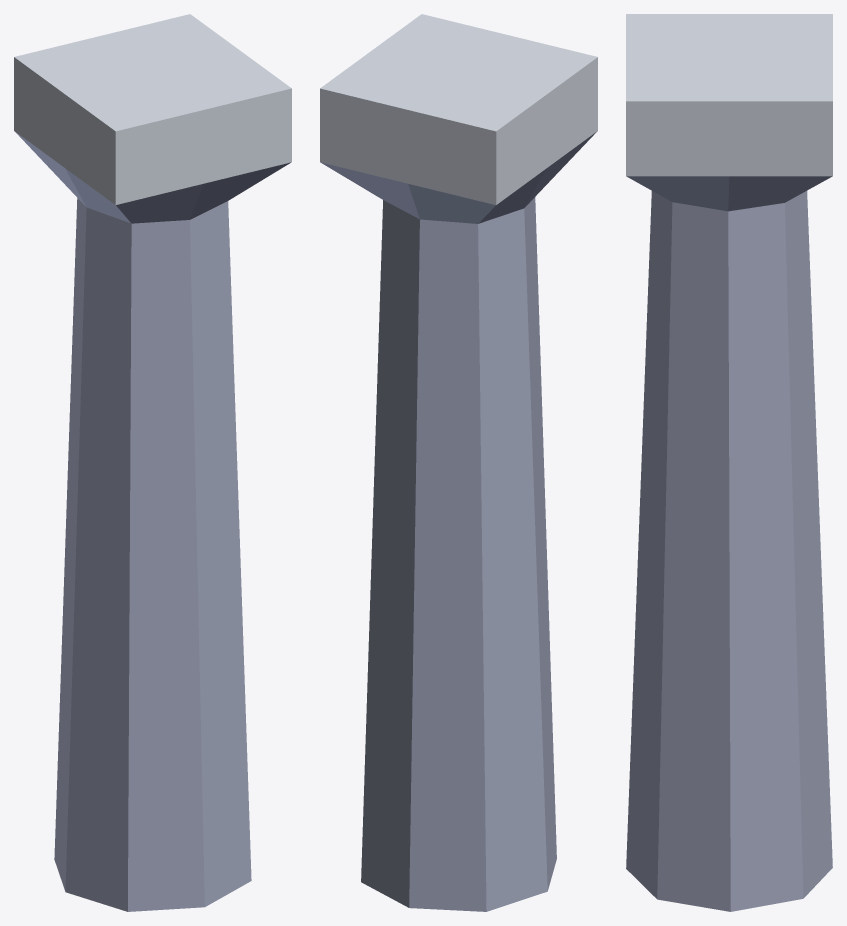
Rendered from Column.fbx.
The picture shows the model from 3 angles, left to right: view 1: azimuth 30°, elevation 25°; view 2: azimuth 150°, elevation 25°; view 3: azimuth 270°, elevation 25°; orthographic projection.
Parts seen in each view (by area): view 1: Regular Plane9_cut2_default; view 2: Regular Plane9_cut2_default; view 3: Regular Plane9_cut2_default.
Boxes of the visible parts, x1,y1,x2,y2 form: Regular Plane9_cut2_default: [14, 14, 291, 911]; Regular Plane9_cut2_default: [320, 14, 597, 911]; Regular Plane9_cut2_default: [626, 14, 832, 911].
Size of the model in its own units: 75 by 324 by 75.
